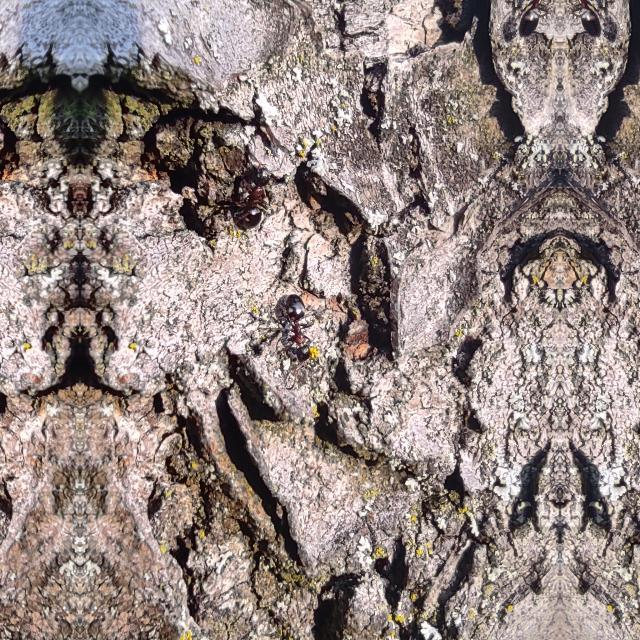Dolichoderus: (264, 272, 326, 381), (222, 150, 282, 238), (507, 0, 557, 48), (563, 0, 613, 48)
